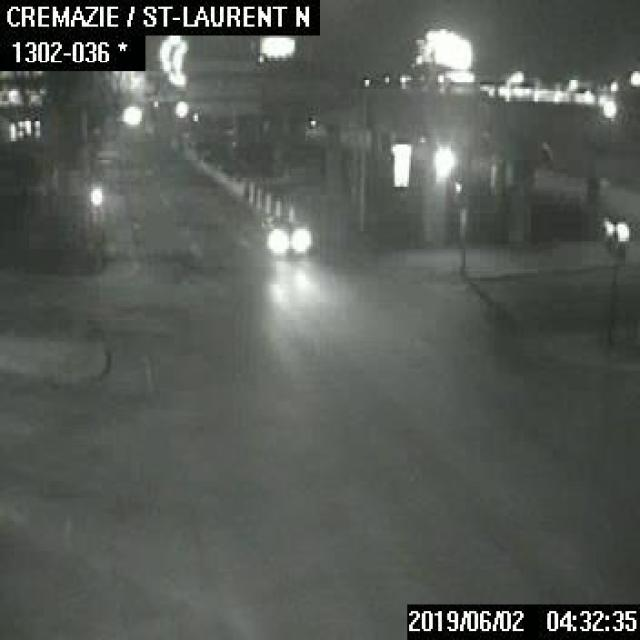construction: (255, 186, 261, 207), (247, 180, 253, 200), (264, 194, 271, 211), (273, 197, 280, 213)
vehicle: (264, 204, 312, 256)
